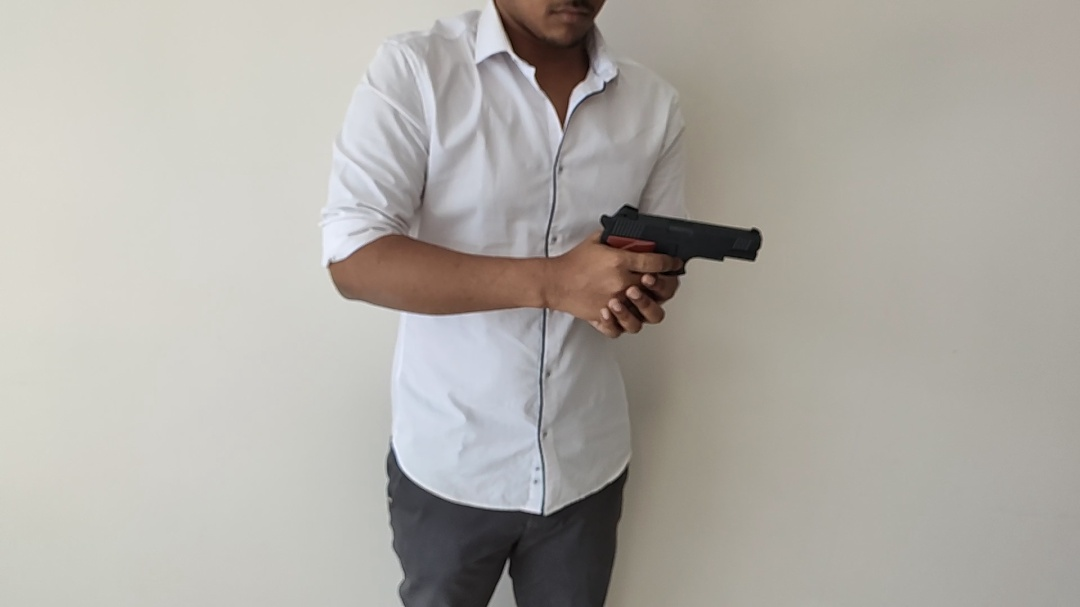gun: (128, 45, 987, 552)
